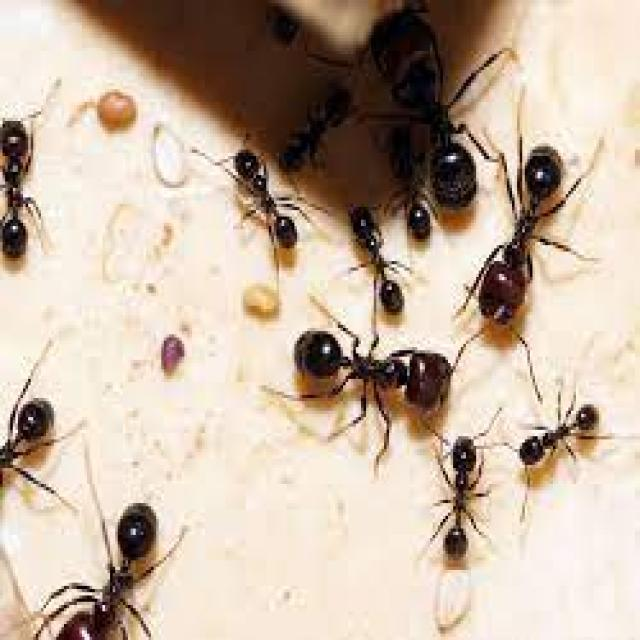ants: (344, 2, 492, 204), (455, 120, 583, 346), (290, 312, 465, 443), (507, 389, 602, 502), (327, 198, 410, 318), (0, 111, 63, 266), (220, 143, 298, 259), (371, 117, 441, 243), (433, 409, 483, 563)
